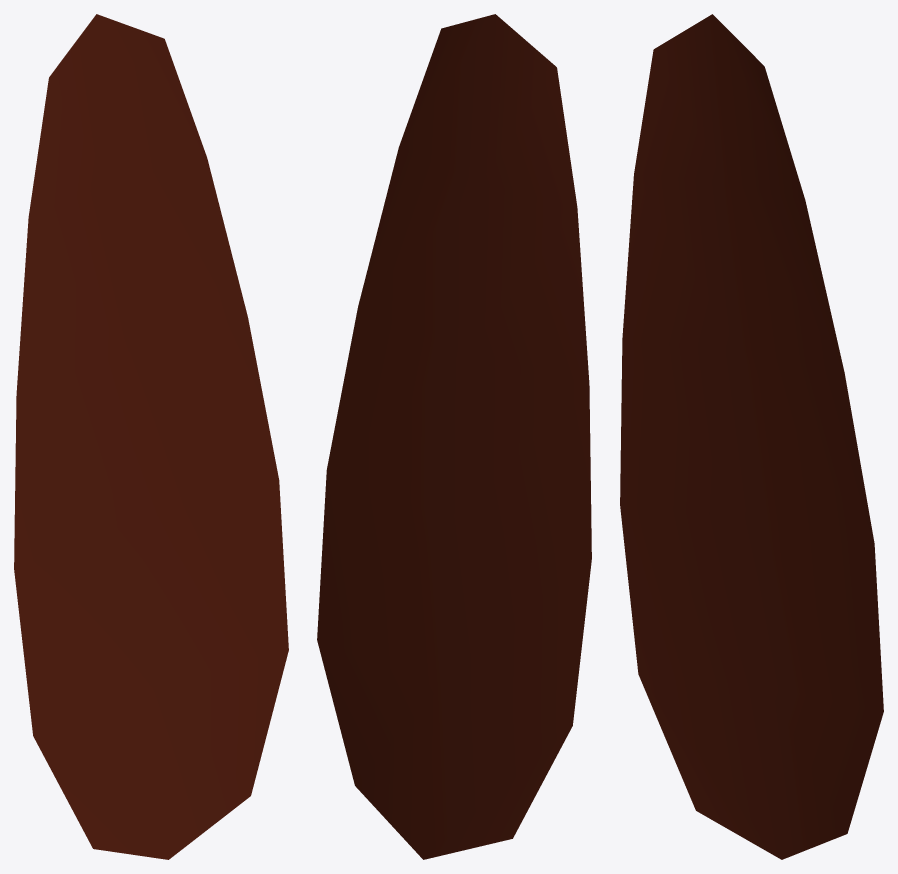
The model's file is finch_feather_flight_tertiary_044.obj.
3 views of the same model, side by side, from view 1: azimuth 30°, elevation 25°; view 2: azimuth 150°, elevation 25°; view 3: azimuth 330°, elevation 25° (orthographic). The views are drawn at different scales.
Visible parts, largest first — view 1: feather_flight_tertiary_044; view 2: feather_flight_tertiary_044; view 3: feather_flight_tertiary_044.
Boxes of the visible parts, box(x1,y1,x2,y2) form: feather_flight_tertiary_044: box(14, 14, 288, 859); feather_flight_tertiary_044: box(317, 14, 591, 859); feather_flight_tertiary_044: box(620, 14, 883, 859).
Bounding box in the file's own units: 0.00349 × 0.0105 × 0.000153.
